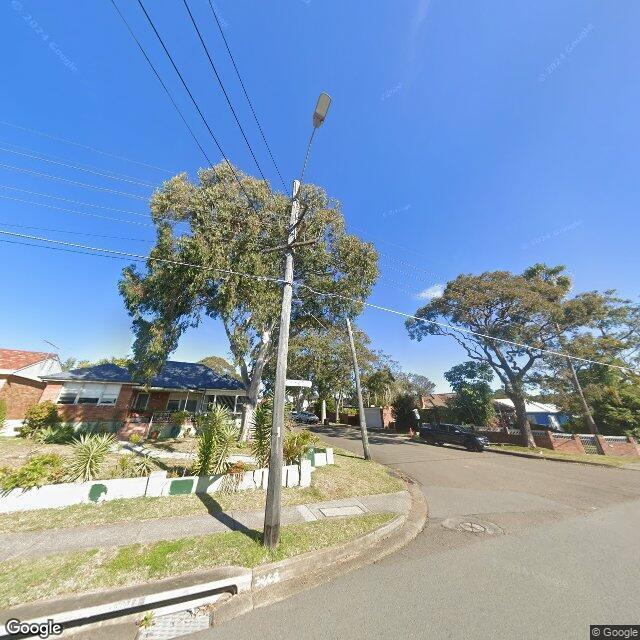crossarm: (261, 239, 317, 256), (296, 205, 310, 228)
streetlight: (296, 90, 333, 200)
timber-pole: (264, 180, 301, 546), (556, 322, 600, 433), (346, 315, 372, 459)
